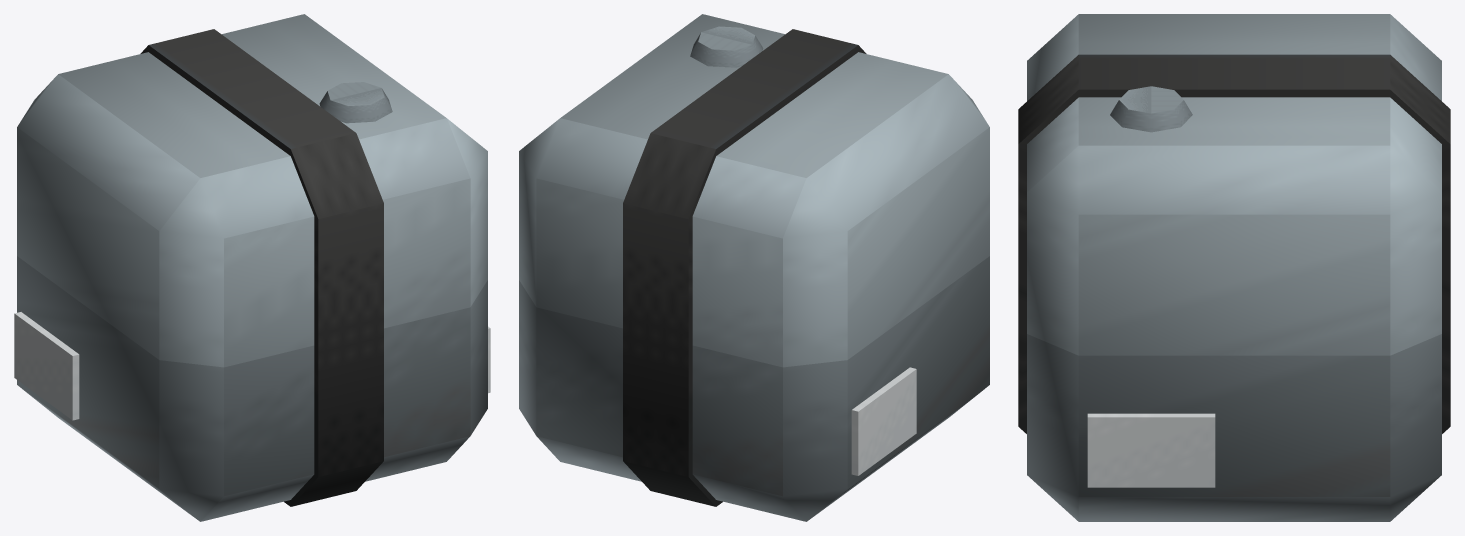
File: cargo-b-packed.glb
3 renders of one model, left to right at view 1: azimuth 30°, elevation 25°; view 2: azimuth 150°, elevation 25°; view 3: azimuth 270°, elevation 25°, orthographic. The views are drawn at different scales.
Visible parts, largest first — view 1: cargo_B_packed; view 2: cargo_B_packed; view 3: cargo_B_packed.
Boxes of the visible parts, bbox=[...] form: cargo_B_packed: bbox=[14, 14, 490, 521]; cargo_B_packed: bbox=[519, 14, 989, 521]; cargo_B_packed: bbox=[1018, 14, 1450, 521].
Bounding box in the file's own units: 0.5205 × 0.5303 × 0.5205.
Materials: 1 (1 with a texture image).
